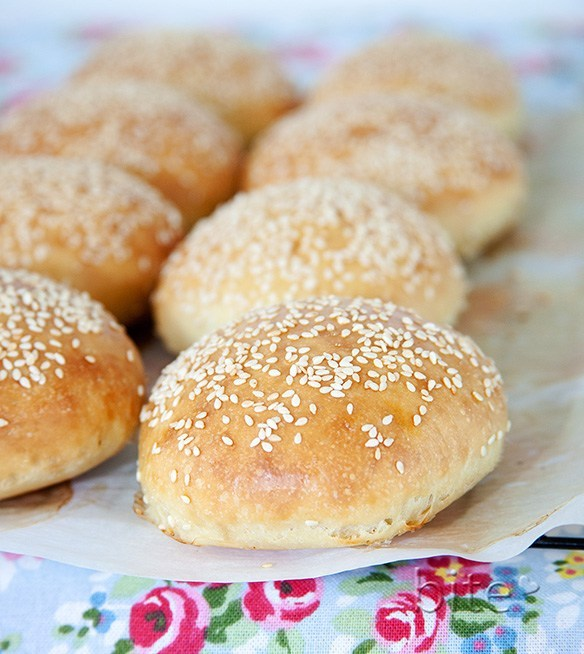hamburger_buns: (137, 292, 504, 556), (246, 88, 544, 280), (160, 191, 442, 379), (1, 263, 196, 490)
